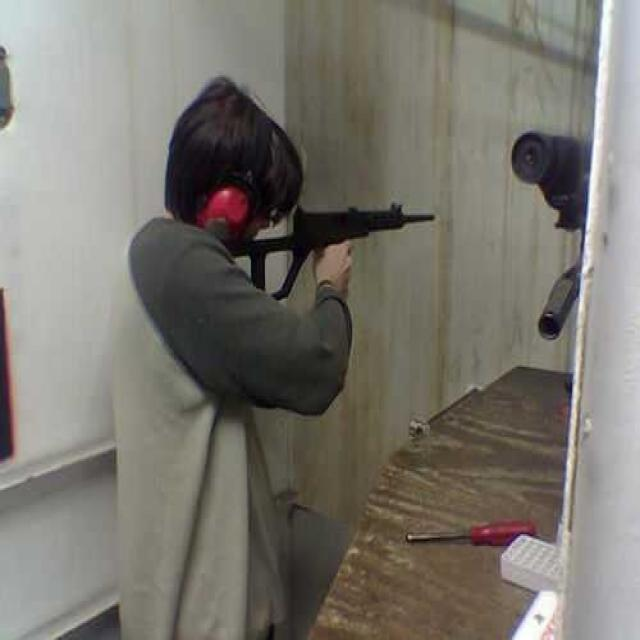Rifle: (201, 192, 441, 315)
